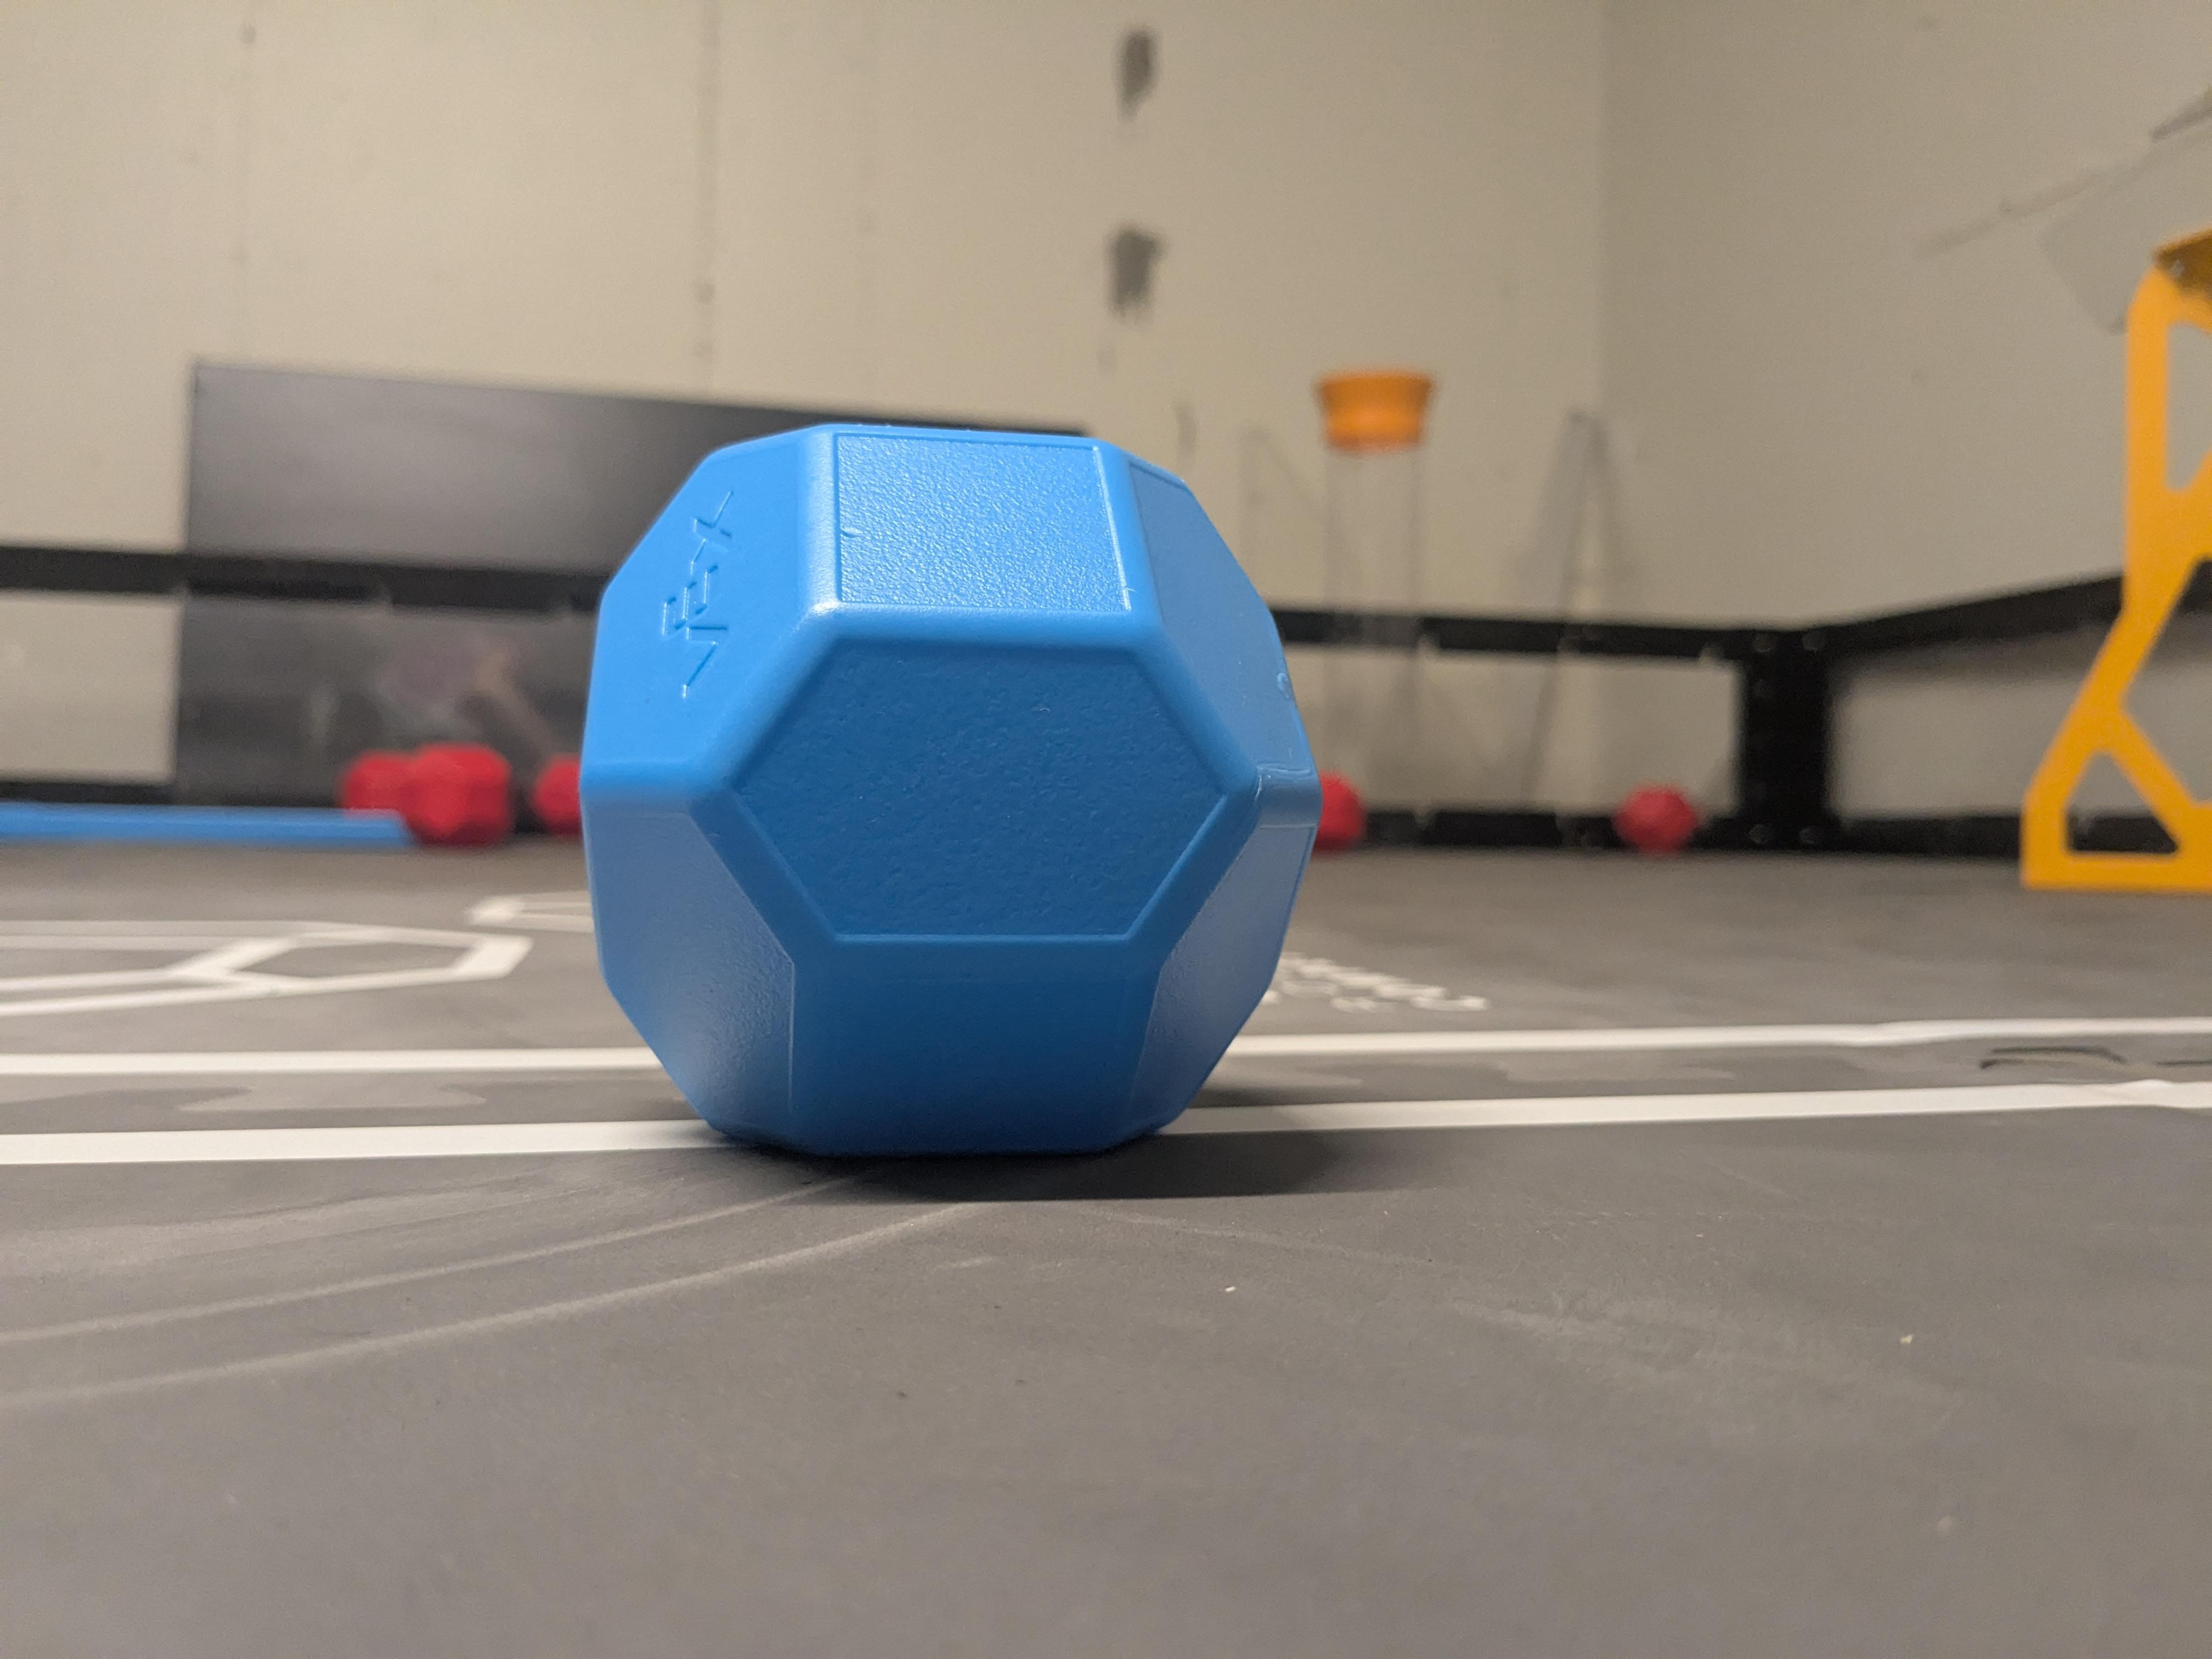Vex-Pieces-BLUE: (587, 423, 1322, 1159)
